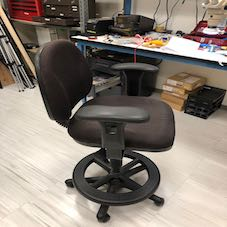chair: (25, 40, 197, 222)
